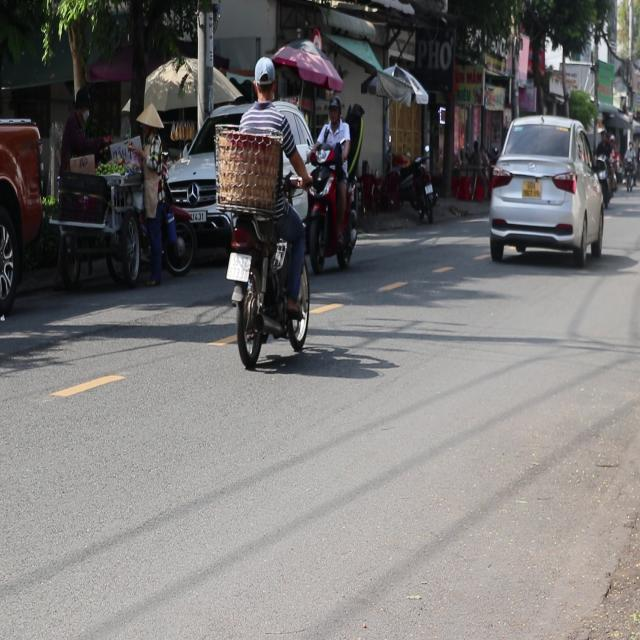helmet: (327, 94, 341, 123)
licenseplate: (218, 53, 314, 367), (305, 93, 360, 273)
motorcyclist: (251, 54, 277, 102)
nohelmet: (226, 252, 252, 282)
